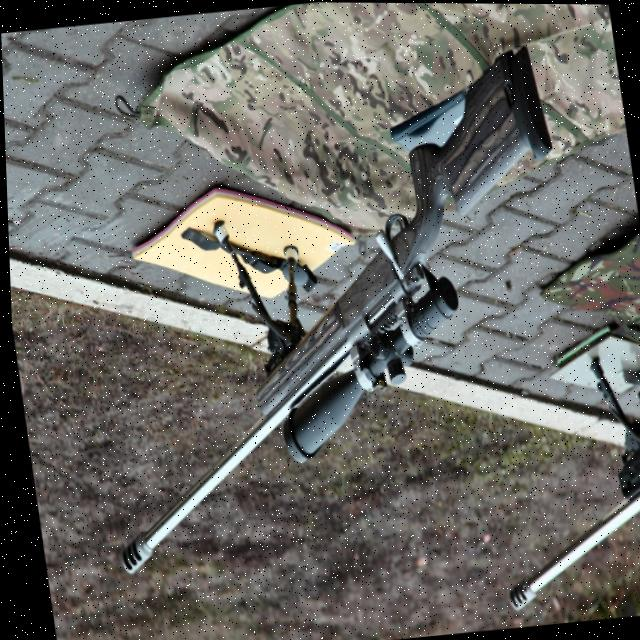firearm: (48, 34, 605, 584), (469, 345, 640, 616)
